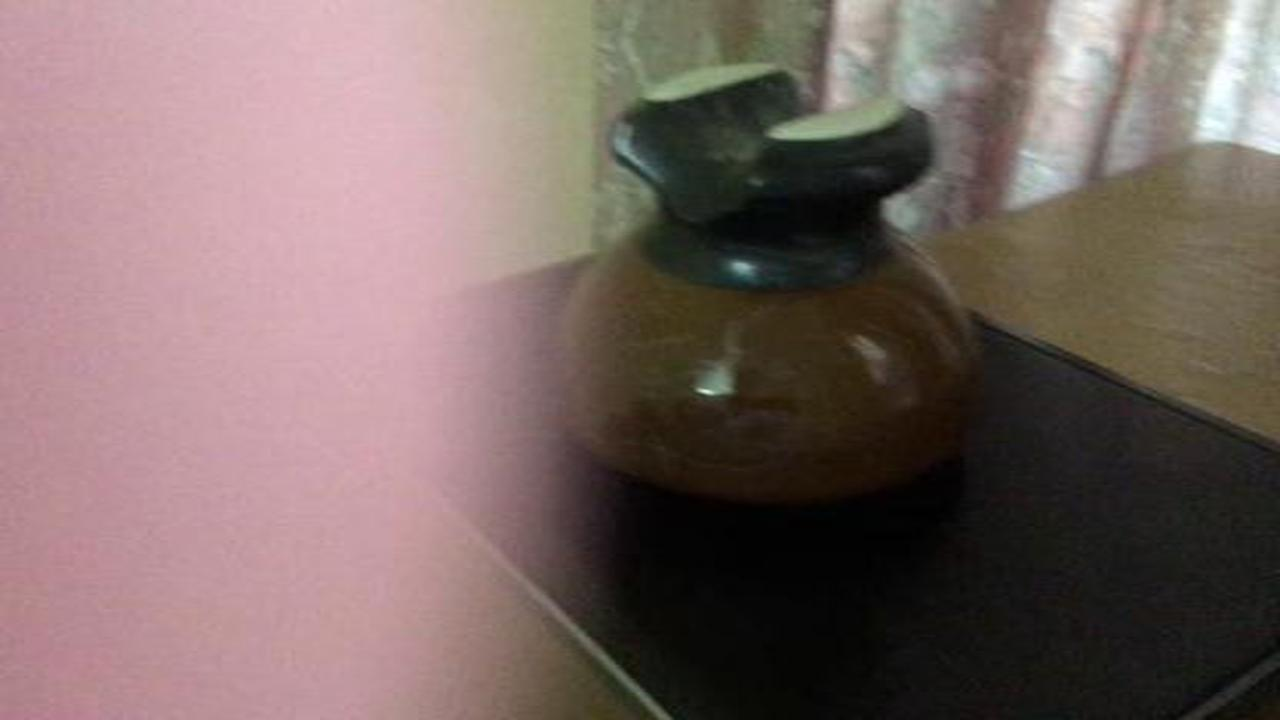insulator_pin: (530, 45, 1004, 527)
